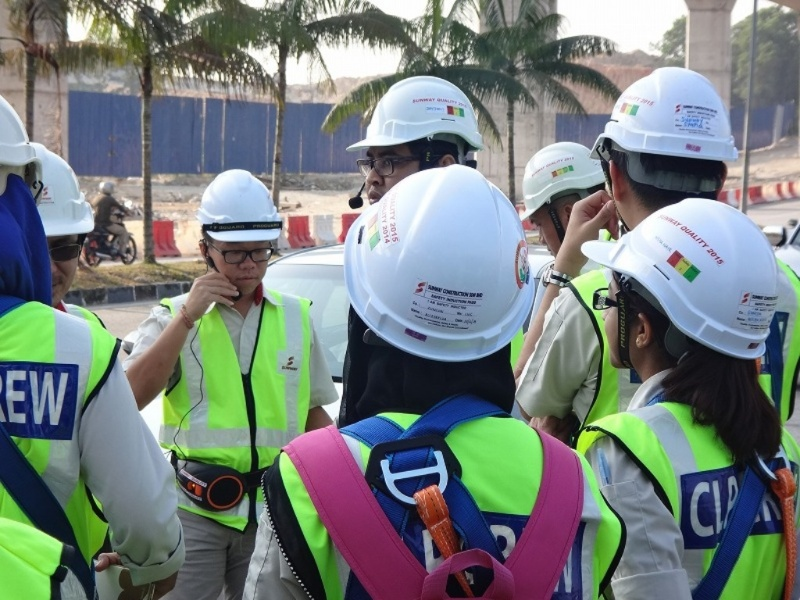Baret: (341, 164, 537, 364), (581, 194, 778, 363), (594, 66, 741, 163), (354, 74, 484, 154), (198, 167, 284, 241)
